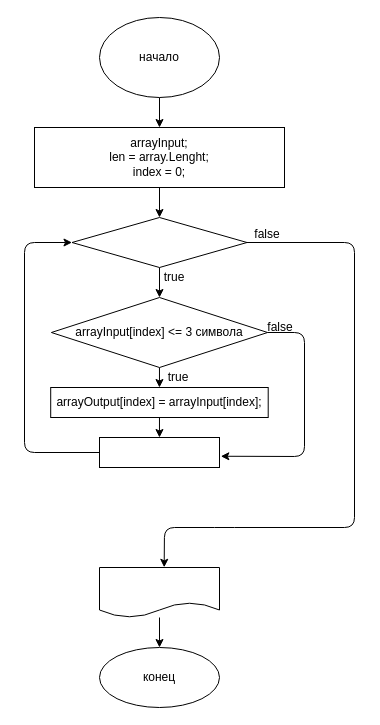
The diagram is 380 pixels wide and 725 high, and some of its shapes have lost their labels. Here are the shapes that lost their labels. From the top down, the centre of each, then its label:
point (159, 242): index < len
point (159, 452): index++;
point (159, 592): arrayOutput
